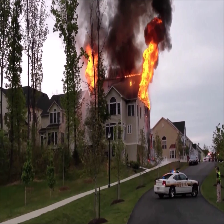fire_h: (137, 38, 159, 109), (85, 42, 100, 95)
fire_l: (147, 18, 162, 33), (124, 73, 142, 77), (128, 80, 135, 86)
